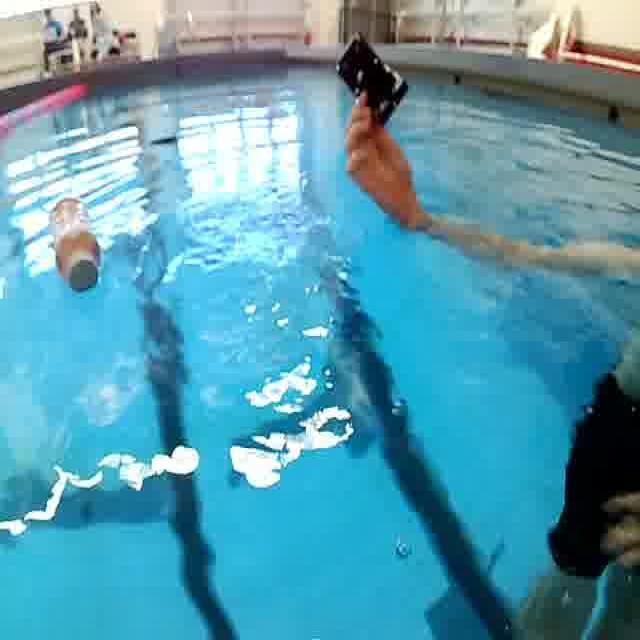Bottle: (43, 188, 108, 302)
CamMount: (331, 26, 411, 130)
